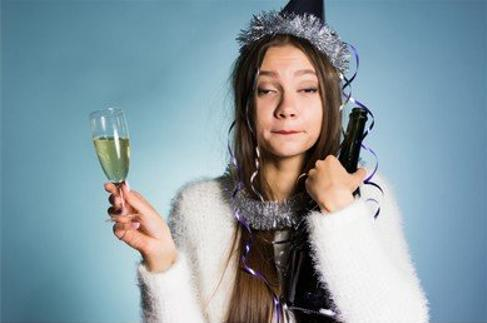Drunk: (251, 47, 323, 152)
